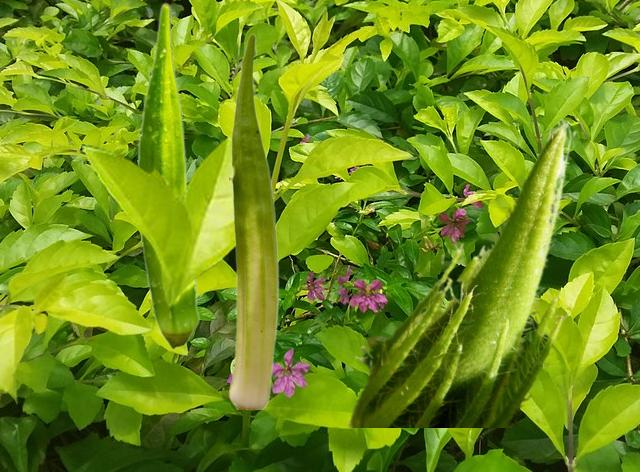okra: (345, 117, 576, 426), (137, 2, 199, 349), (229, 33, 278, 408)
